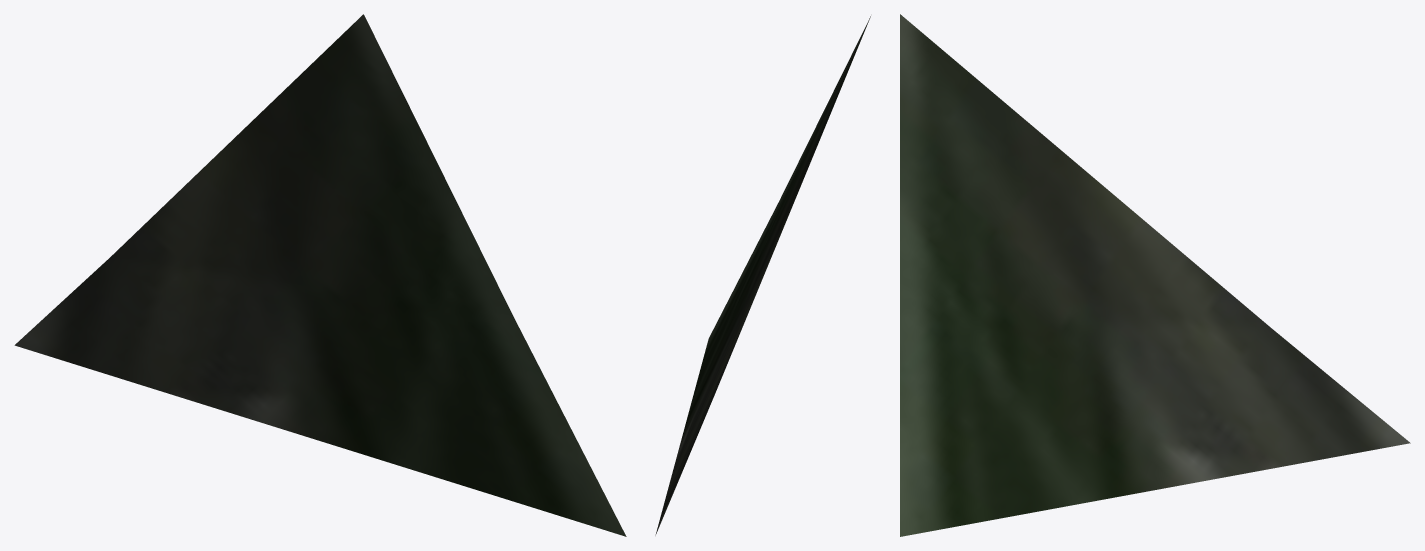
3 renders of one model, left to right at view 1: azimuth 30°, elevation 25°; view 2: azimuth 150°, elevation 25°; view 3: azimuth 270°, elevation 25°, orthographic. The views are drawn at different scales.
Size of the model in its own units: 0.3566 by 0.7607 by 0.8204.
Materials: 1 (1 with a texture image).
